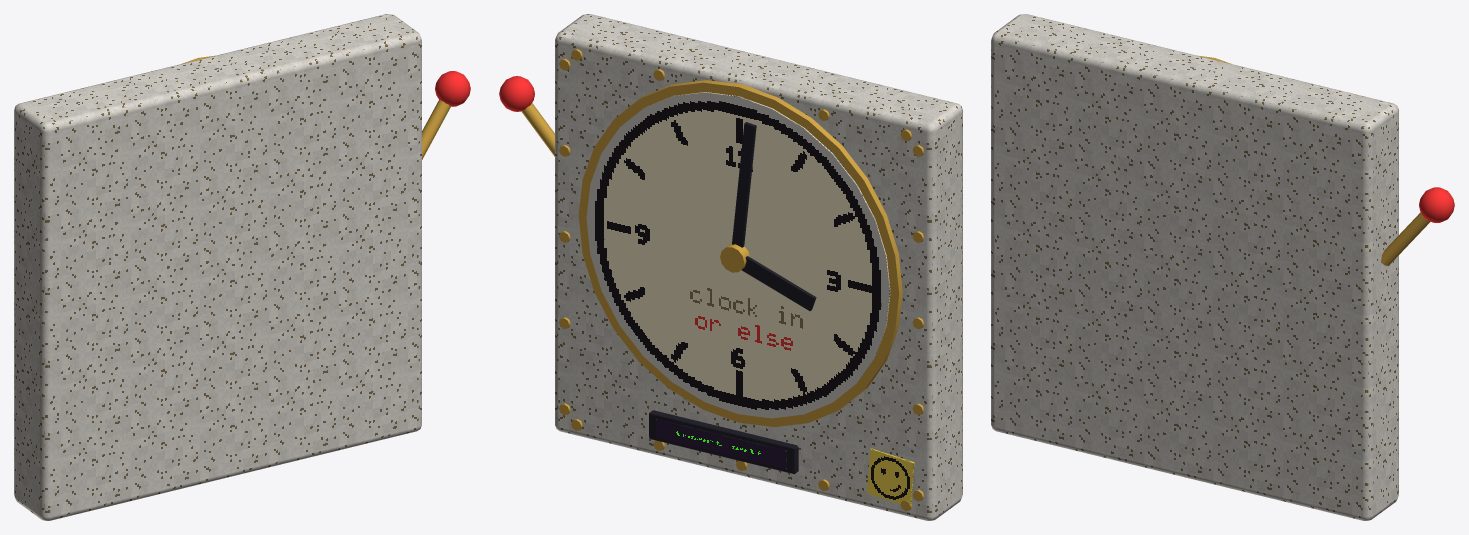
Rendered from s_punchclock_big.glb.
3 renders of one model, left to right at view 1: azimuth 30°, elevation 25°; view 2: azimuth 150°, elevation 25°; view 3: azimuth 330°, elevation 25°, orthographic.
Parts seen in each view (by area): view 1: s_punchclock_big_mesh; view 2: s_punchclock_big_mesh; view 3: s_punchclock_big_mesh.
Boxes of the visible parts, box(x1,y1,x2,y2) form: s_punchclock_big_mesh: box(14, 14, 470, 520); s_punchclock_big_mesh: box(499, 14, 962, 520); s_punchclock_big_mesh: box(991, 14, 1454, 520).
Size of what is drawn, in the model's own units: 5.13 by 4.4 by 0.865.
Materials: 6 (6 with a texture image).
